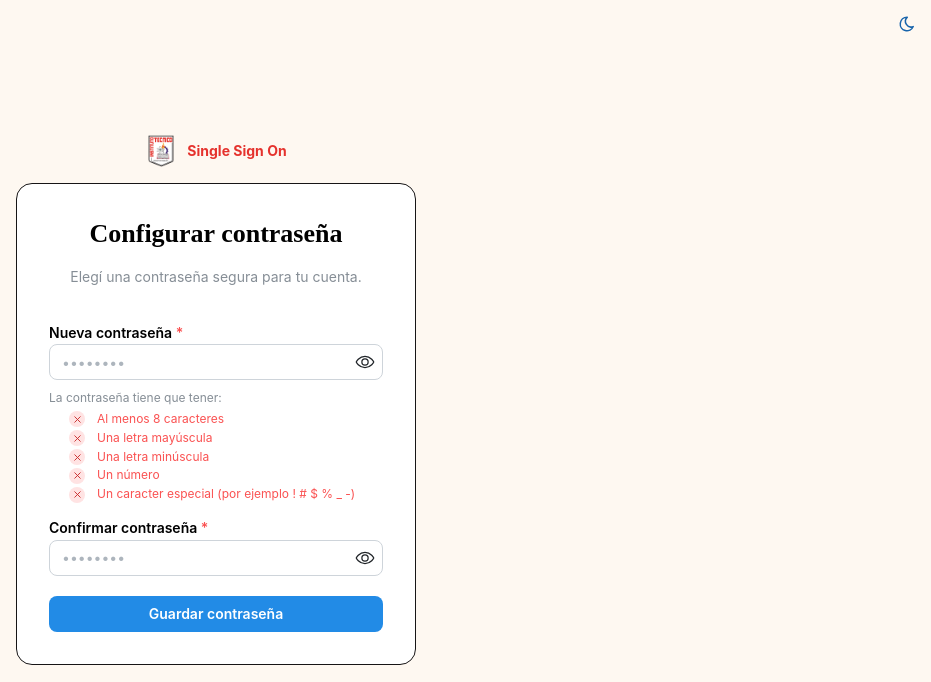
Test: SetPasswordPage › debería establecer la contraseña correctamente cuando los datos son válidos
The width and height of the screenshot is (931, 682).
Type "Nueva#Pass123" into the password field labelled "Nueva contraseña *" at (216, 362), box [50,345,382,379]
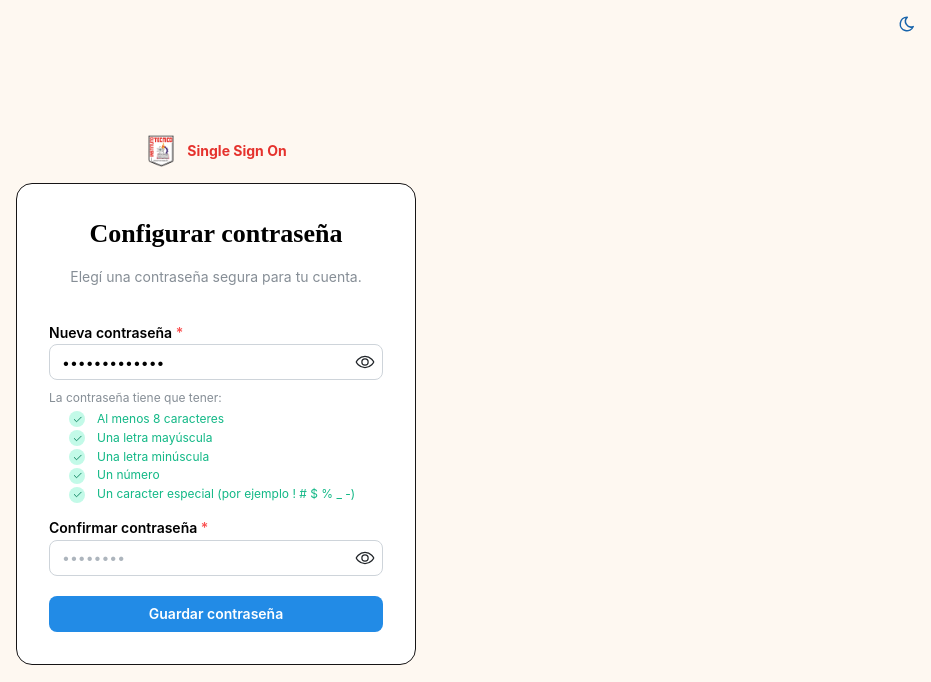
Type "Nueva#Pass123" into the password field labelled "Confirmar contraseña *" at (216, 558), box [50,541,382,575]
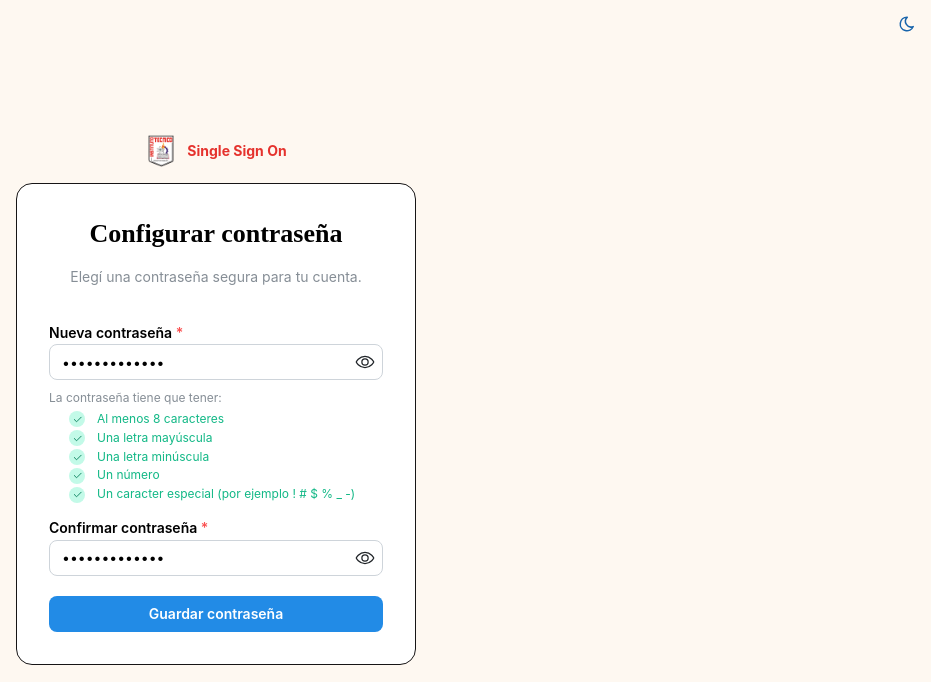
Click the button "Guardar contraseña" at (216, 614), box [49,596,383,632]
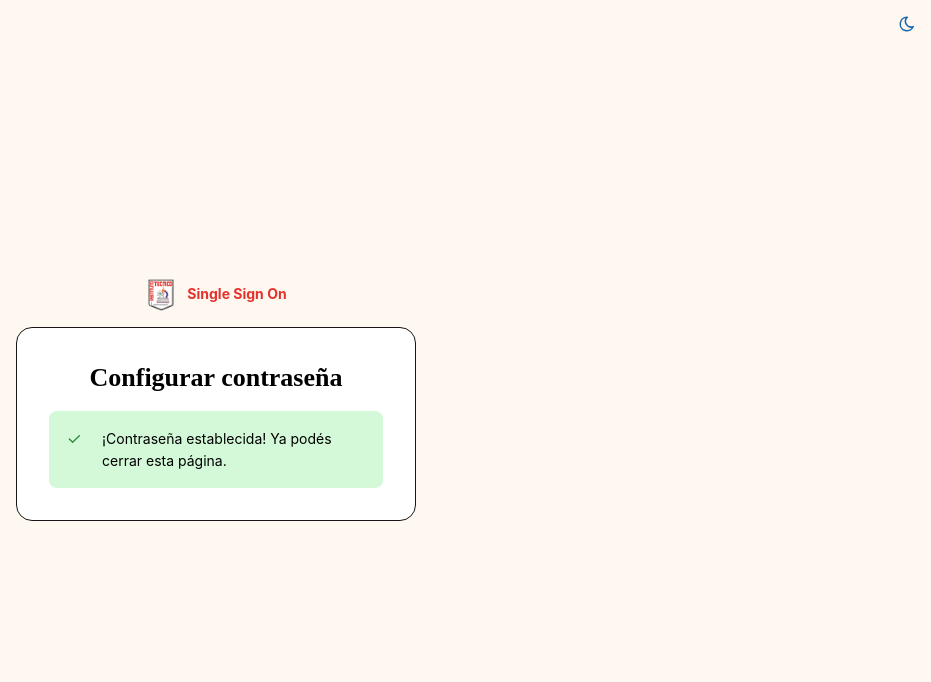
Check: the text "¡Contraseña establecida! Ya podés cerrar esta página." is shown, box [102,428,366,471]
